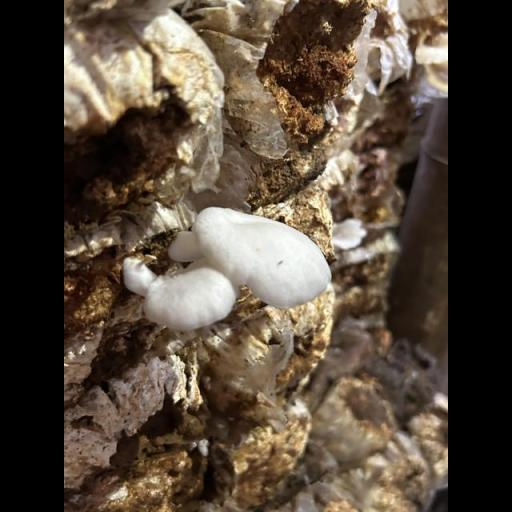White Oyster Mushroom: (126, 206, 330, 330)
